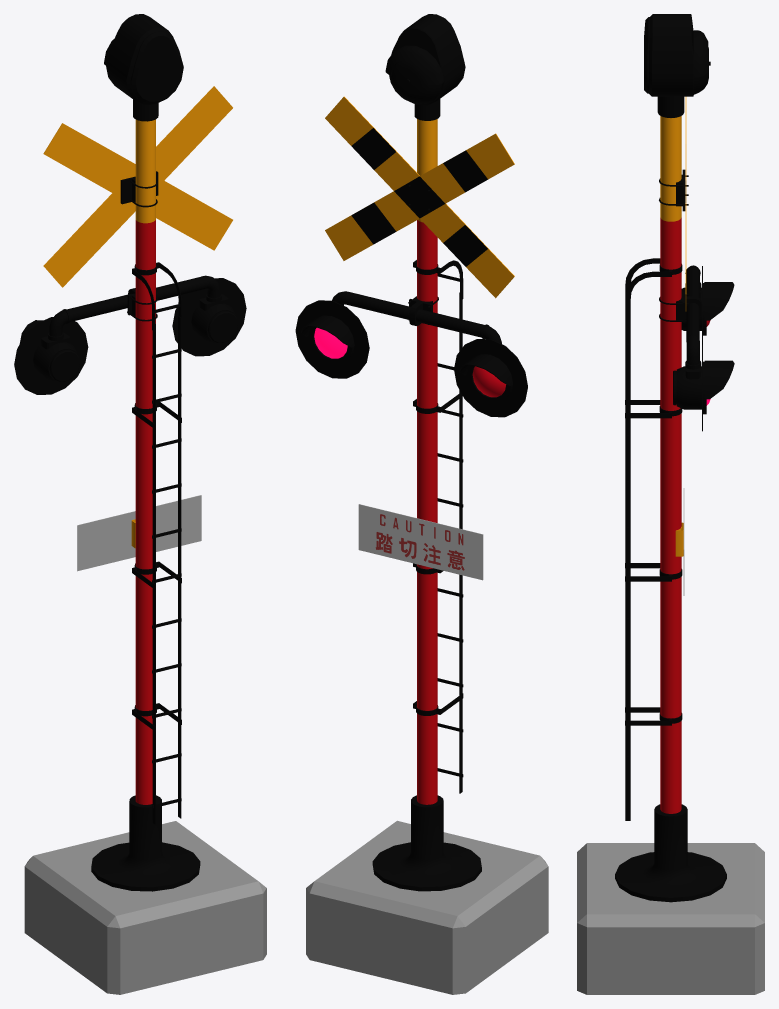
The model's file is 踏切警報器.fbx.
The picture shows the model from 3 angles, left to right: view 1: azimuth 30°, elevation 25°; view 2: azimuth 150°, elevation 25°; view 3: azimuth 270°, elevation 25°; orthographic projection.
Parts seen in each view (by area): view 1: 立方体.009, 平面.002, 円柱.004, 円柱.008, 円.001, 立方体.002, 円柱.005, 円柱.015, 立方体.007, 立方体.006, 円柱.009, 立方体.008 (+1 smaller); view 2: 立方体.009, 平面.002, 円柱.004, 立方体.002, 円柱.008, 円.001, 円柱.015, 円柱.005, 円柱.009, 立方体.006, 立方体.008; view 3: 立方体.009, 円柱.004, 円柱.008, 円.001, 立方体.007, 円柱.015, 円柱.005, 円柱.009, 円柱.010, 円柱.007, 円柱.012, 円柱.006 (+2 smaller).
Part boxes in pixels (<box>): 立方体.009: <box>24,821,266,994</box>; 平面.002: <box>43,86,232,287</box>; 円柱.004: <box>135,119,155,804</box>; 円柱.008: <box>91,795,200,891</box>; 円.001: <box>104,14,183,104</box>; 立方体.002: <box>77,495,201,571</box>; 円柱.005: <box>14,317,88,394</box>; 円柱.015: <box>172,278,246,356</box>; 立方体.007: <box>178,316,181,818</box>; 立方体.006: <box>152,324,155,824</box>; 円柱.009: <box>62,276,206,323</box>; 立方体.008: <box>152,304,181,808</box>; 立方体.009: <box>306,820,548,994</box>; 平面.002: <box>325,96,514,298</box>; 円柱.004: <box>417,119,437,804</box>; 立方体.002: <box>358,504,483,580</box>; 円柱.008: <box>372,795,481,891</box>; 円.001: <box>385,14,465,105</box>; 円柱.015: <box>295,300,369,378</box>; 円柱.005: <box>454,339,527,417</box>; 円柱.009: <box>345,292,488,338</box>; 立方体.006: <box>459,292,462,793</box>; 立方体.008: <box>437,273,463,777</box>; 立方体.009: <box>577,843,764,994</box>; 円柱.004: <box>660,116,681,813</box>; 円柱.008: <box>615,804,726,902</box>; 円.001: <box>644,14,710,96</box>; 立方体.007: <box>625,319,630,820</box>; 円柱.015: <box>673,344,734,431</box>; 円柱.005: <box>681,266,734,344</box>; 円柱.009: <box>685,266,700,341</box>; 円柱.010: <box>625,258,682,319</box>; 円柱.007: <box>625,707,682,725</box>; 円柱.012: <box>625,563,682,581</box>; 円柱.006: <box>657,96,684,117</box>.
Bounding box in the file's own units: 152 × 577 × 104.
Materials: 8 (1 with a texture image).
